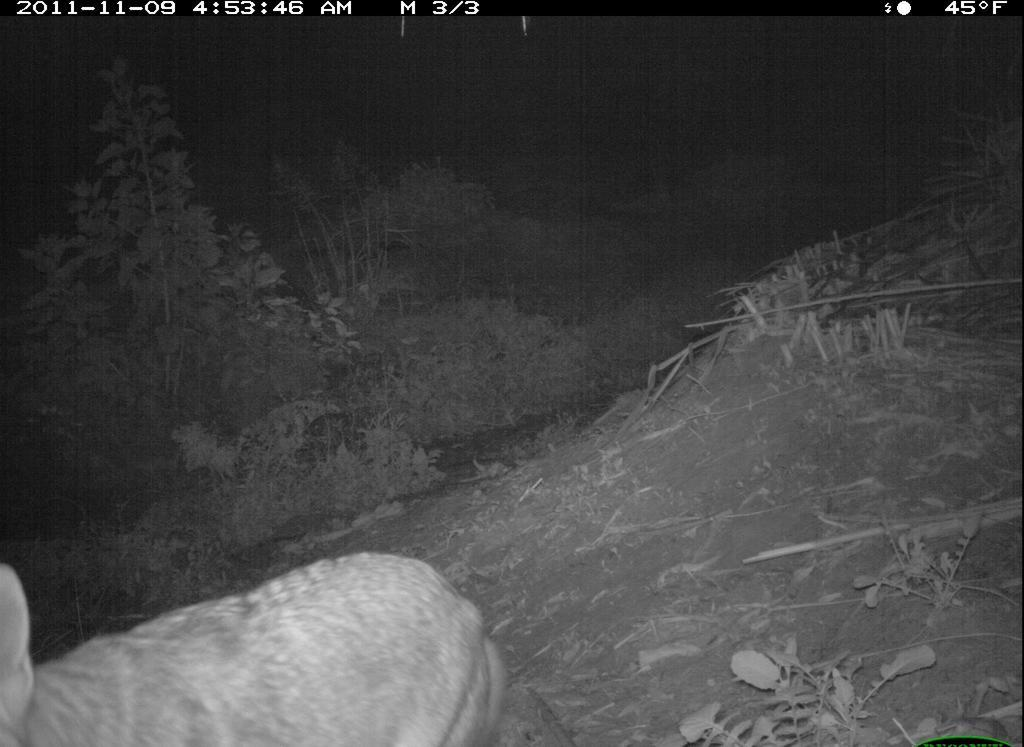coyote: (4, 541, 509, 747)
